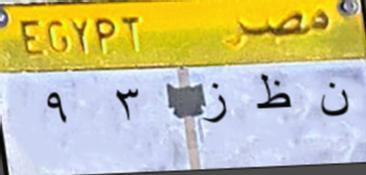3: (104, 83, 148, 129)
9: (40, 85, 78, 136)
Thaa: (250, 65, 296, 125)
noon: (310, 78, 354, 128)
zay: (204, 79, 234, 135)
